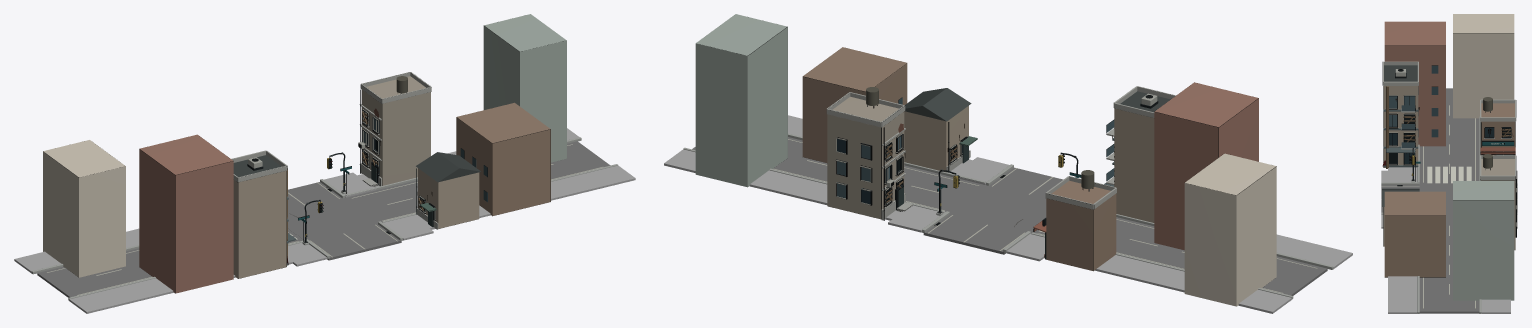
File: city_hd_23.glb
3 views of the same model, side by side, from view 1: azimuth 30°, elevation 25°; view 2: azimuth 150°, elevation 25°; view 3: azimuth 270°, elevation 25° (orthographic). The views are drawn at different scales.
Visible parts, largest first — view 1: CITY_awning_green, CITY_PBR_asphalt, CITY_PBR_pavement, CITY_curb, CITY_paint; view 2: CITY_awning_green, CITY_PBR_asphalt, CITY_PBR_pavement, CITY_curb, CITY_paint; view 3: CITY_awning_green, CITY_PBR_asphalt, CITY_PBR_pavement, CITY_zebra_paint, CITY_curb, CITY_paint.
Boxes of the visible parts, x1,y1,x2,y2 form: CITY_awning_green: (43, 14, 566, 293); CITY_PBR_asphalt: (37, 141, 610, 297); CITY_PBR_pavement: (14, 128, 635, 313); CITY_curb: (31, 137, 618, 300); CITY_paint: (46, 144, 603, 295); CITY_awning_green: (695, 14, 1276, 306); CITY_PBR_asphalt: (692, 137, 1327, 295); CITY_PBR_pavement: (664, 115, 1352, 313); CITY_curb: (683, 133, 1333, 299); CITY_paint: (773, 139, 1317, 293); CITY_awning_green: (1382, 14, 1516, 300); CITY_PBR_asphalt: (1381, 88, 1517, 313); CITY_PBR_pavement: (1381, 167, 1517, 313); CITY_zebra_paint: (1427, 166, 1471, 183); CITY_curb: (1381, 116, 1517, 313); CITY_paint: (1381, 105, 1517, 308).
Bounding box in the file's own units: 63 × 13.26 × 16.
7 materials, 1 textured.
